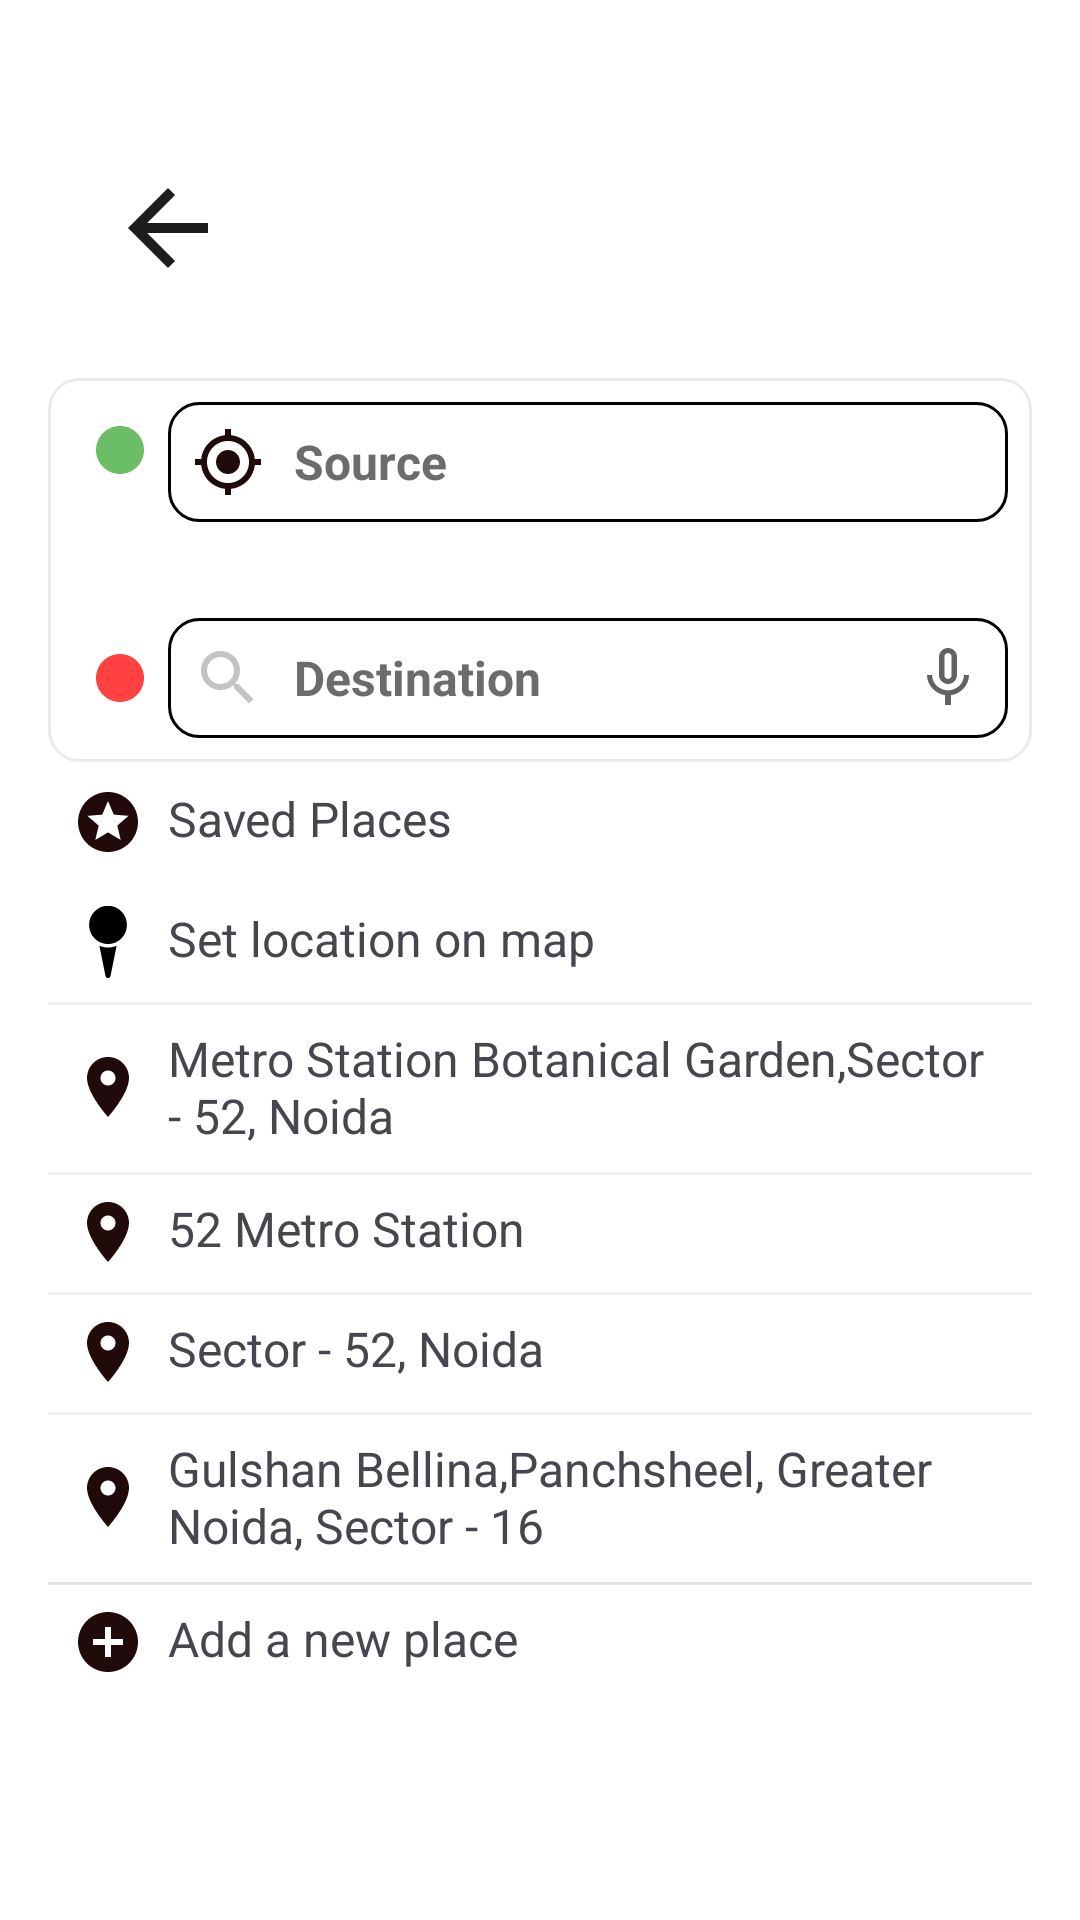

Point at icon controls on the screen. Image size 1080*1920, points as (x=x, y=y).
arrow back: (x=168, y=228)
